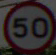Speed limit: (4, 2, 51, 49)
